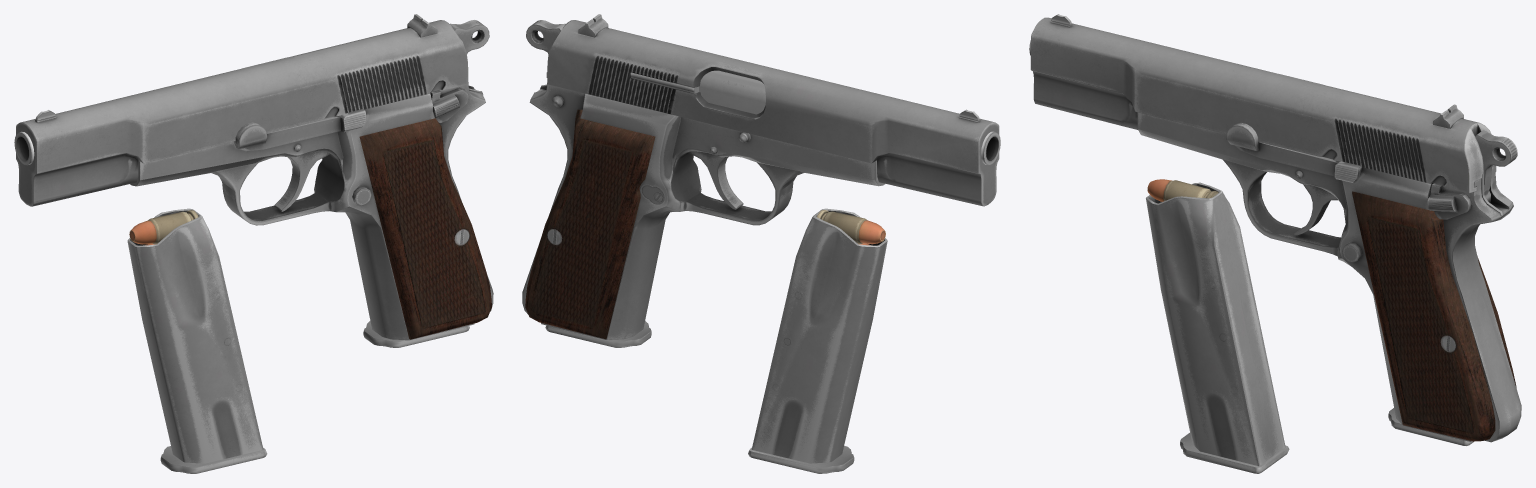
The model's file is PBR_Pistol.gltf.
3 renders of one model, left to right at view 1: azimuth 30°, elevation 25°; view 2: azimuth 150°, elevation 25°; view 3: azimuth 330°, elevation 25°, orthographic. The views are drawn at different scales.
Parts seen in each view (by area): view 1: Browning_hp, Clip, Bullet, Trigger; view 2: Browning_hp, Clip, Bullet, Trigger; view 3: Browning_hp, Clip, Bullet, Trigger.
Part boxes in pixels (x1,y1,x2,y2): Browning_hp: [14, 14, 493, 347]; Clip: [127, 208, 267, 473]; Bullet: [129, 210, 198, 244]; Trigger: [274, 151, 329, 211]; Browning_hp: [522, 14, 1000, 347]; Clip: [748, 208, 887, 473]; Bullet: [817, 210, 885, 244]; Trigger: [688, 151, 743, 209]; Browning_hp: [1029, 14, 1521, 445]; Clip: [1146, 182, 1289, 473]; Bullet: [1147, 179, 1218, 201]; Trigger: [1294, 184, 1337, 235].
Bounding box in the file's own units: 1.81 × 1.44 × 0.2681.
Materials: 1 (1 with a texture image).
